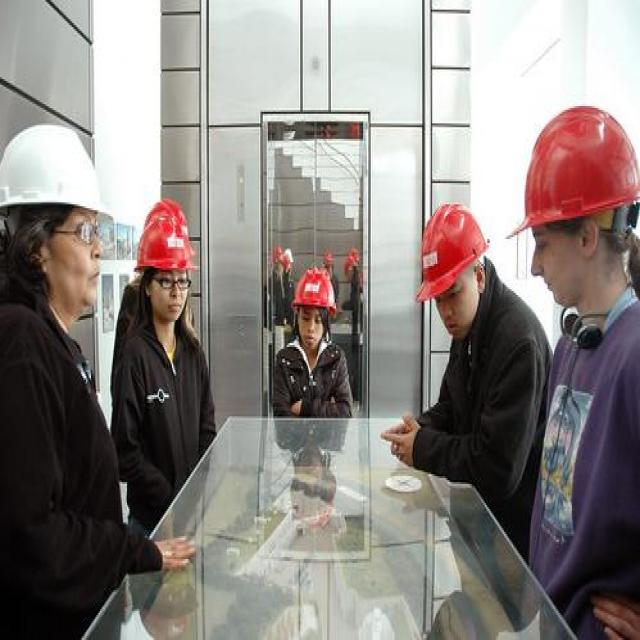Reflective-Jacket: (292, 264, 336, 310)
Safety-Helmet: (508, 98, 639, 247), (0, 114, 118, 235), (410, 192, 492, 304), (128, 193, 200, 279), (290, 264, 336, 310)
